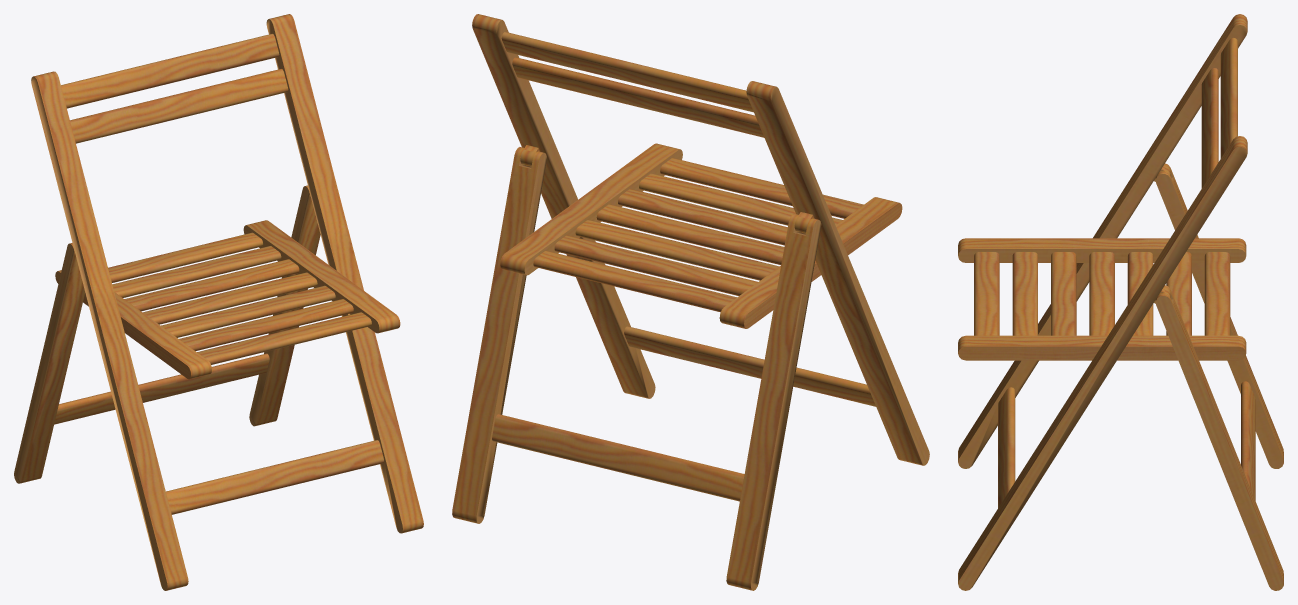
The model's file is sweethome3d-contributions-folding-chair-471.glb.
The picture shows the model from 3 angles, left to right: view 1: azimuth 30°, elevation 25°; view 2: azimuth 150°, elevation 25°; view 3: azimuth 270°, elevation 25°; orthographic projection. The views are drawn at different scales.
Parts seen in each view (by area): view 1: long_1, sweethome3d_opening_on_hinge_1_3, sweethome3d_opening_on_hinge_2_5; view 2: long_1, sweethome3d_opening_on_hinge_1_3, sweethome3d_opening_on_hinge_2_5; view 3: long_1, sweethome3d_opening_on_hinge_1_3, sweethome3d_opening_on_hinge_2_5.
Boxes of the visible parts, <box> form: long_1: <box>31,14,423,590</box>; sweethome3d_opening_on_hinge_1_3: <box>55,220,400,379</box>; sweethome3d_opening_on_hinge_2_5: <box>14,185,320,483</box>; long_1: <box>472,14,929,465</box>; sweethome3d_opening_on_hinge_1_3: <box>500,143,902,328</box>; sweethome3d_opening_on_hinge_2_5: <box>452,147,821,590</box>; long_1: <box>958,14,1247,590</box>; sweethome3d_opening_on_hinge_1_3: <box>958,238,1246,360</box>; sweethome3d_opening_on_hinge_2_5: <box>1155,163,1283,590</box>.
Bounding box in the file's own units: 49 × 76.53 × 50.87.
Materials: 2 (1 with a texture image).
